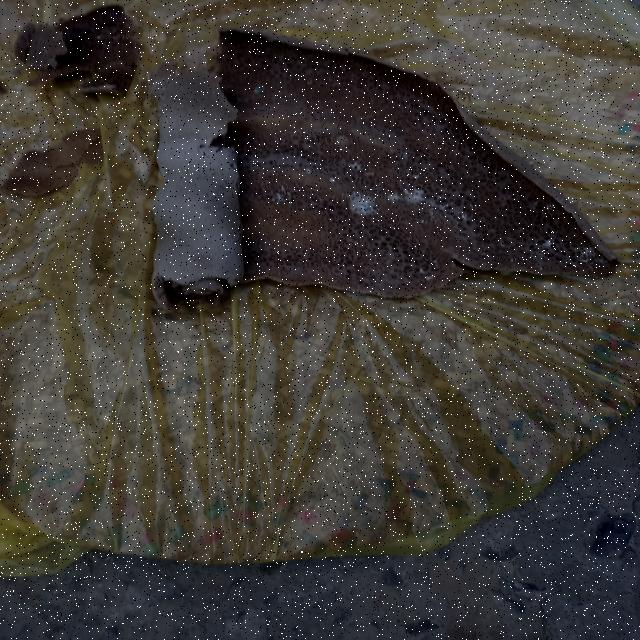injera_mold: (344, 190, 376, 223), (571, 247, 603, 265), (270, 185, 292, 205), (403, 186, 424, 206), (416, 268, 436, 284), (429, 199, 448, 213), (346, 159, 361, 174), (386, 190, 398, 207), (324, 173, 338, 185), (250, 84, 264, 95), (459, 211, 470, 223), (542, 237, 553, 247), (153, 79, 162, 90), (200, 233, 214, 240), (431, 193, 447, 199), (398, 150, 409, 158), (304, 166, 312, 176), (467, 202, 477, 210), (410, 173, 421, 180), (597, 258, 609, 264), (544, 203, 554, 210), (432, 259, 441, 265), (367, 171, 376, 176), (586, 265, 595, 269), (538, 267, 545, 272), (328, 178, 336, 182), (353, 240, 358, 245), (421, 220, 426, 223), (511, 258, 514, 263)
